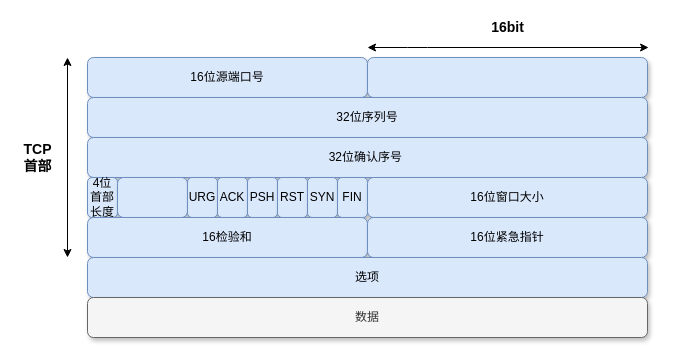
Some shapes in this 675 by 362 pixel diagram are drawn without their labels. The shapes that lost their labels are listed below. From the top down, each one's centre as x and y in pixels, then its label:
point (508, 78): 16位源目的口号
point (153, 198): 保留(6位)
